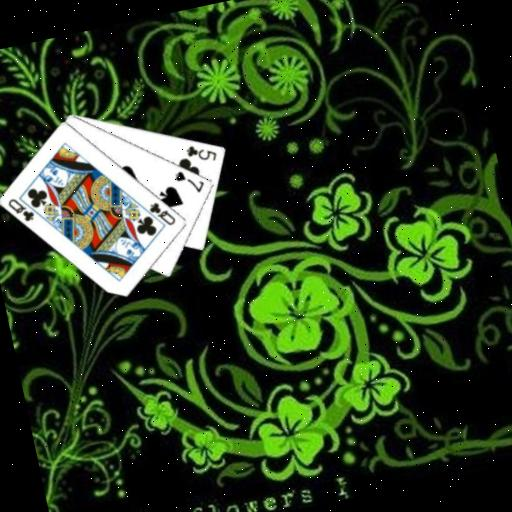5C: (182, 137, 220, 167)
7S: (171, 163, 208, 198)
QC: (144, 196, 178, 231), (4, 191, 37, 226)
